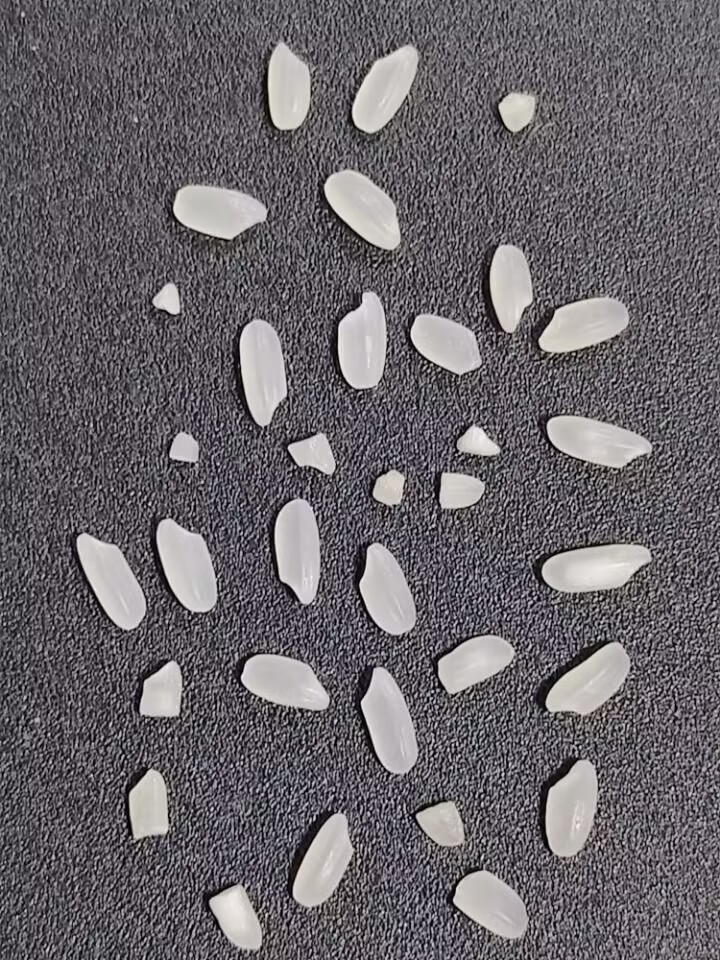broken: (452, 869, 529, 940), (436, 635, 515, 694), (130, 649, 191, 723), (209, 884, 264, 950), (409, 800, 473, 854), (429, 467, 490, 522), (128, 769, 168, 839), (282, 429, 339, 478), (452, 415, 506, 463), (366, 461, 416, 508), (164, 428, 206, 468), (497, 91, 536, 132), (144, 278, 186, 314)
rice: (69, 528, 153, 633), (318, 169, 413, 254), (352, 665, 423, 776), (534, 639, 639, 714), (230, 315, 296, 432), (348, 39, 425, 139), (286, 809, 357, 912), (349, 540, 418, 645), (152, 514, 222, 617), (540, 410, 657, 470), (263, 495, 327, 604), (526, 296, 635, 356), (539, 541, 655, 597), (233, 653, 338, 714), (171, 181, 274, 241), (334, 287, 391, 393), (260, 37, 319, 139), (543, 754, 599, 857), (486, 239, 537, 342), (410, 313, 481, 374)
